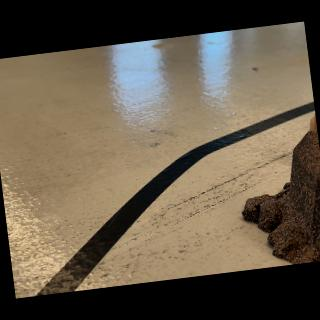teletubby: (309, 114, 317, 131)
